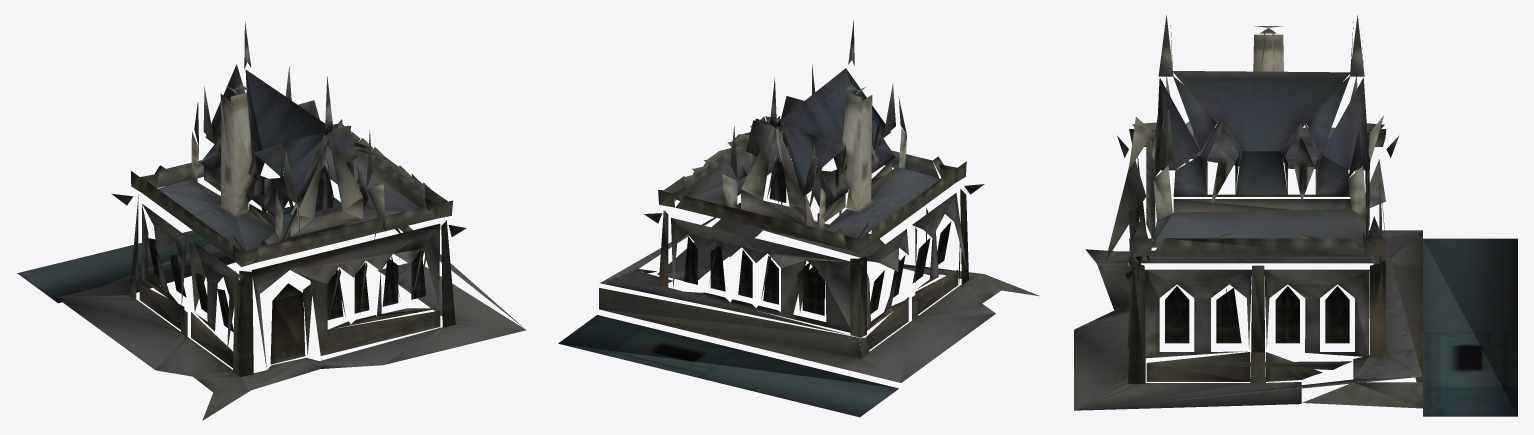
File: morgue.glb
3 renders of one model, left to right at view 1: azimuth 30°, elevation 25°; view 2: azimuth 150°, elevation 25°; view 3: azimuth 270°, elevation 25°, orthographic. The views are drawn at different scales.
Visible parts, largest first — view 1: tripo_node_28c218cf-0ad8-4e8c-a9e3-74f49; view 2: tripo_node_28c218cf-0ad8-4e8c-a9e3-74f49; view 3: tripo_node_28c218cf-0ad8-4e8c-a9e3-74f49.
Part boxes in pixels (left/top/right/bottom): tripo_node_28c218cf-0ad8-4e8c-a9e3-74f49: left=17, top=21, right=526, bottom=420; tripo_node_28c218cf-0ad8-4e8c-a9e3-74f49: left=558, top=20, right=1039, bottom=417; tripo_node_28c218cf-0ad8-4e8c-a9e3-74f49: left=1074, top=15, right=1517, bottom=416.
Size of the model in its own units: 18.29 by 15.41 by 19.11.
1 material, 1 textured.
